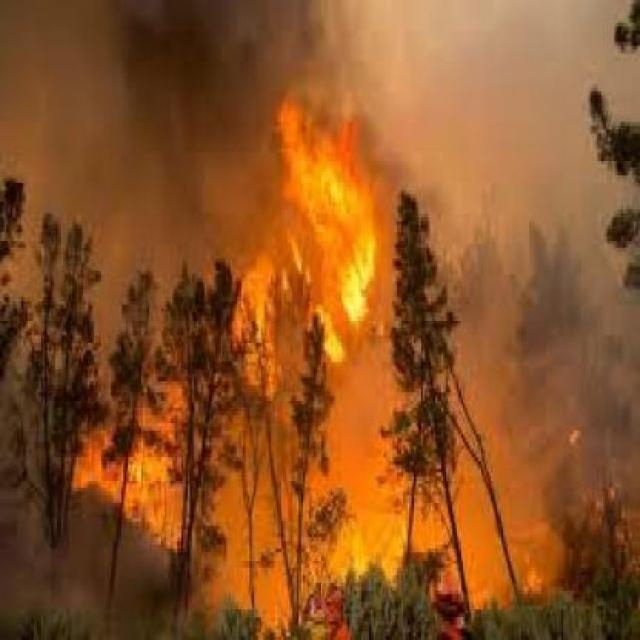Fire: (208, 52, 420, 622), (196, 98, 416, 384)
